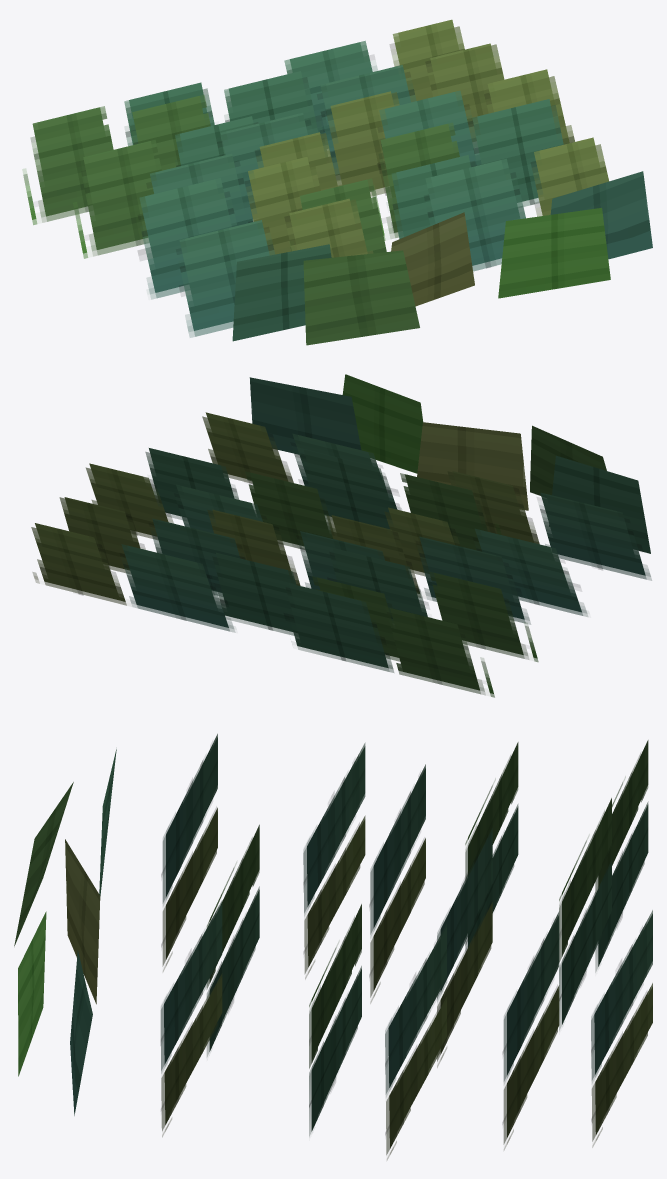
File: GrassCut.glb
3 views of the same model, one above another, from view 1: azimuth 30°, elevation 25°; view 2: azimuth 150°, elevation 25°; view 3: azimuth 270°, elevation 25° (orthographic). The views are drawn at different scales.
Parts seen in each view (by area): view 1: CutGrass; view 2: CutGrass; view 3: CutGrass.
Part boxes in pixels (x1=…): CutGrass: x1=22, y1=19, x2=652, y2=345; CutGrass: x1=31, y1=374, x2=651, y2=697; CutGrass: x1=14, y1=734, x2=652, y2=1159.
Size of the model in its own units: 2.2 by 0.3636 by 1.84.
1 material, 1 textured.
